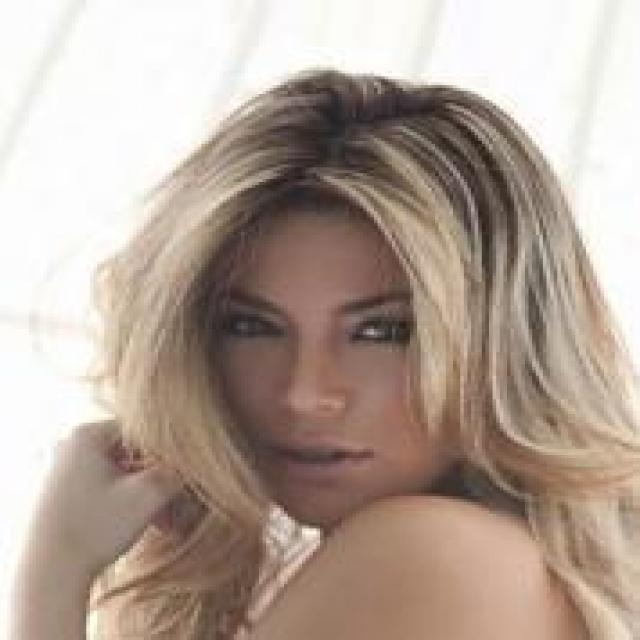nomask: (104, 126, 525, 540)
